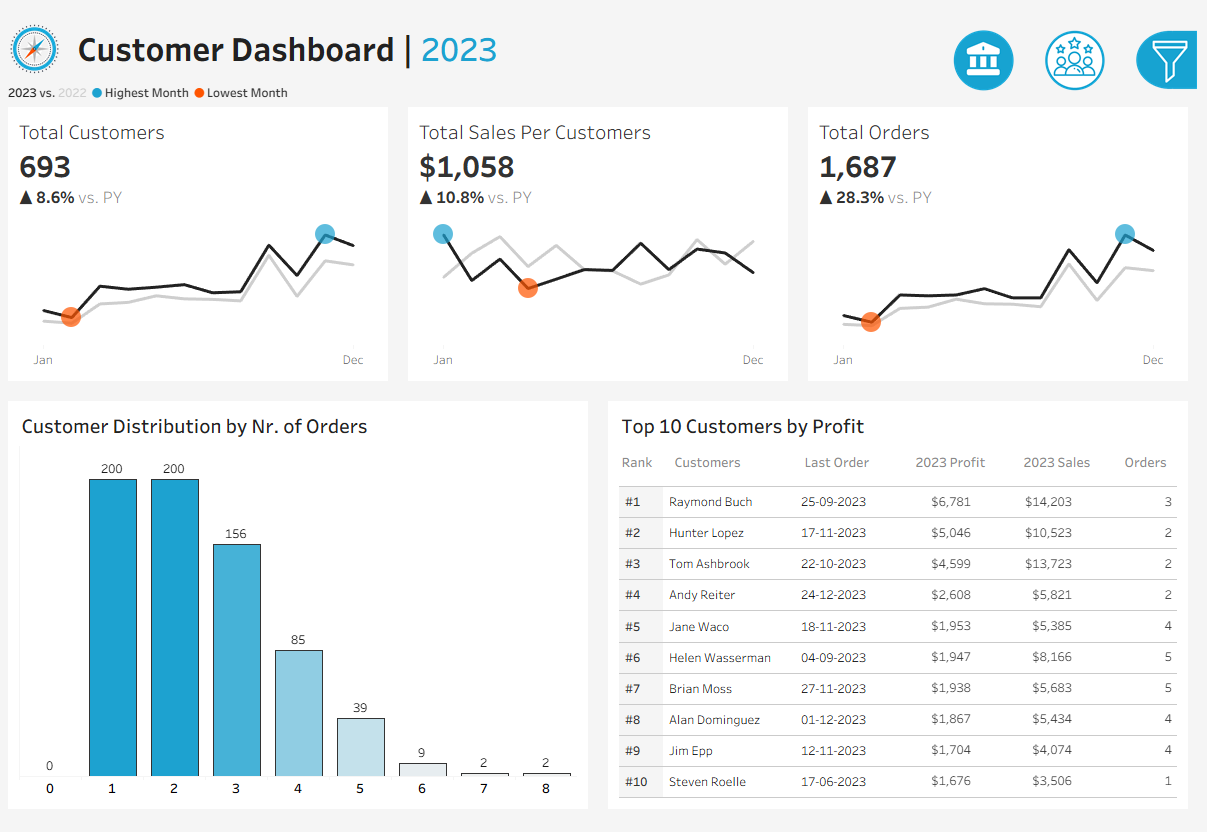

The dashboard page shown, as its layout file describes it:
{"tool":"tableau","page":{"name":"Customer Dashboard","canvas":[1200,800],"ordinal":0},"visuals":[{"type":"image","param":"C:/Users/hardi/Desktop/Sales Project/Book1.twb Files/Image/Icon - Logo.png","box":[0,0,73,59]},{"type":"text","box":[73,0,820,59]},{"type":"dashboard-object","box":[940,6,91,70]},{"type":"dashboard-object","box":[1031,6,91,70]},{"type":"blank","box":[952,10,237,86]},{"type":"worksheet","title":"Legend KPI","mark":"Automatic","box":[0,59,1200,29]},{"type":"worksheet","title":"KPI Customers","mark":"Automatic","rows":["Min/Max Quantity (copy)_3221481164588691468"],"cols":["Order Date"],"box":[0,88,400,284]},{"type":"worksheet","title":"KPI Sales Per Customers","mark":"Automatic","rows":["Min/Max Quantity (copy)_3221481164537155591"],"cols":["Order Date"],"box":[400,88,400,284]},{"type":"worksheet","title":"KPI Orders","mark":"Automatic","rows":["Min/Max Sales (copy)_3221481164601258003"],"cols":["Order Date"],"box":[800,88,400,284]},{"type":"text","box":[952,96,237,37]},{"type":"parameter","param":"[Parameters].[Parameter 1]","box":[952,133,237,55]},{"type":"text","box":[952,188,237,32]},{"type":"filter","title":"KPI Customers","param":"[federated.1kpxa041aiai2y1cl4pui1t4eju9].[none:Category:nk]","box":[952,220,237,57]},{"type":"filter","title":"KPI Customers","param":"[federated.1kpxa041aiai2y1cl4pui1t4eju9].[none:Sub-Category:nk]","box":[952,277,237,57]},{"type":"blank","box":[952,334,237,60]},{"type":"text","box":[17,389,566,37]},{"type":"text","box":[617,389,566,37]},{"type":"text","box":[952,394,237,32]},{"type":"worksheet","title":"Customer Distribution","mark":"Bar","rows":["CY Sales (copy)_3221481164532666369"],"cols":["Calculation_998110323739992064"],"box":[17,426,566,357]},{"type":"text","box":[617,426,53,40]},{"type":"text","box":[670,426,130,40]},{"type":"text","box":[800,426,111,40]},{"type":"text","box":[911,426,108,40]},{"type":"filter","title":"KPI Customers","param":"[federated.1kpxa041aiai2y1cl4pui1t4eju9].[none:Region:nk]","box":[952,426,237,57]},{"type":"text","box":[1019,426,101,40]},{"type":"text","box":[1120,426,63,40]},{"type":"worksheet","title":"Top Customers","mark":"Automatic","rows":["Calculation_782500491678904334","Customer Name","Order Date"],"box":[617,466,566,317]},{"type":"filter","title":"KPI Customers","param":"[federated.1kpxa041aiai2y1cl4pui1t4eju9].[none:State:nk]","box":[952,483,237,57]},{"type":"filter","title":"KPI Customers","param":"[federated.1kpxa041aiai2y1cl4pui1t4eju9].[none:City:nk]","box":[952,540,237,57]}]}

Visuals, with their boxes on the page's 1200x800 design canvas (x1, y1, x2, y2). These are canvas units, not pixel positions in the 1207x832 screenshot, which may show the page scaled, cropped or inside an application window:
image: bbox(0, 0, 73, 59)
text: bbox(73, 0, 893, 59)
dashboard-object: bbox(940, 6, 1031, 76)
dashboard-object: bbox(1031, 6, 1122, 76)
blank: bbox(952, 10, 1189, 96)
"Legend KPI" worksheet: bbox(0, 59, 1200, 88)
"KPI Customers" worksheet: bbox(0, 88, 400, 372)
"KPI Sales Per Customers" worksheet: bbox(400, 88, 800, 372)
"KPI Orders" worksheet: bbox(800, 88, 1200, 372)
text: bbox(952, 96, 1189, 133)
parameter: bbox(952, 133, 1189, 188)
text: bbox(952, 188, 1189, 220)
"KPI Customers" filter: bbox(952, 220, 1189, 277)
"KPI Customers" filter: bbox(952, 277, 1189, 334)
blank: bbox(952, 334, 1189, 394)
text: bbox(17, 389, 583, 426)
text: bbox(617, 389, 1183, 426)
text: bbox(952, 394, 1189, 426)
"Customer Distribution" worksheet (Bar marks): bbox(17, 426, 583, 783)
text: bbox(617, 426, 670, 466)
text: bbox(670, 426, 800, 466)
text: bbox(800, 426, 911, 466)
text: bbox(911, 426, 1019, 466)
"KPI Customers" filter: bbox(952, 426, 1189, 483)
text: bbox(1019, 426, 1120, 466)
text: bbox(1120, 426, 1183, 466)
"Top Customers" worksheet: bbox(617, 466, 1183, 783)
"KPI Customers" filter: bbox(952, 483, 1189, 540)
"KPI Customers" filter: bbox(952, 540, 1189, 597)
